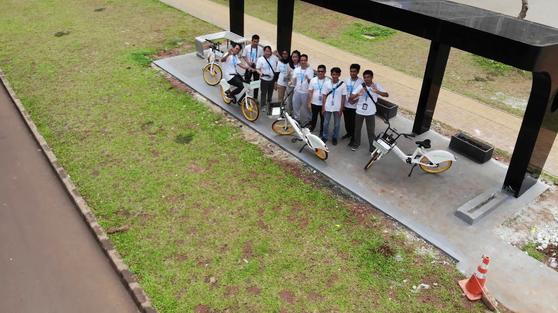bike: (357, 111, 461, 181), (263, 85, 336, 165), (215, 66, 265, 131), (197, 36, 227, 90)
